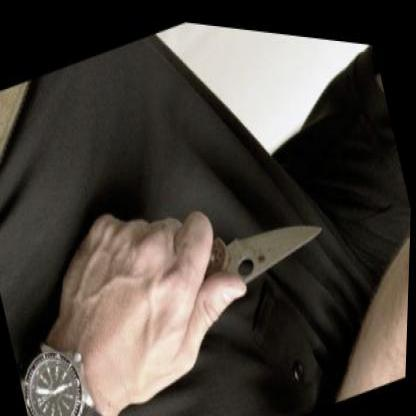knife: (137, 129, 342, 340)
